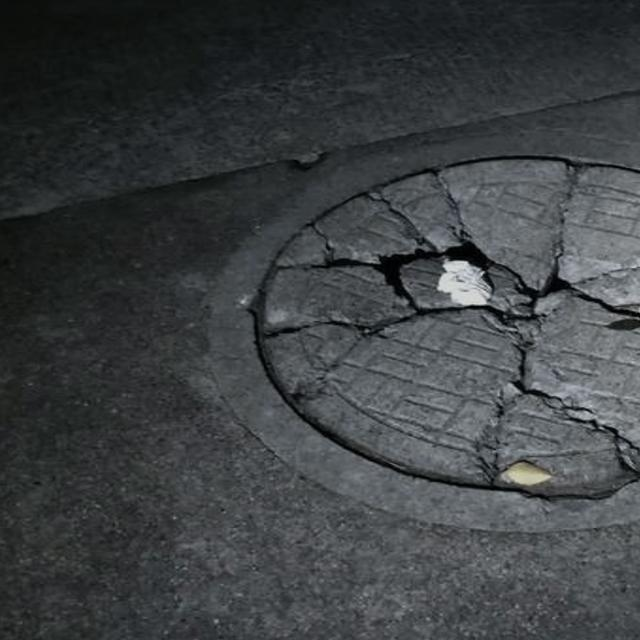broke: (189, 140, 640, 517)
